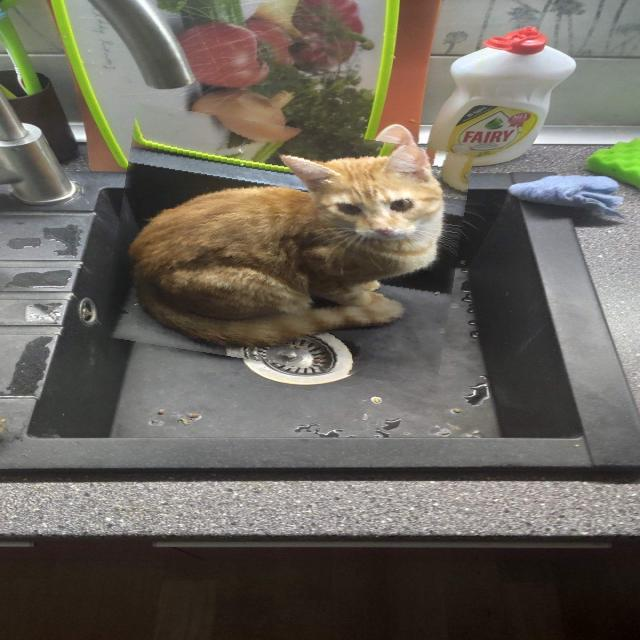red_cat: (109, 116, 465, 377)
